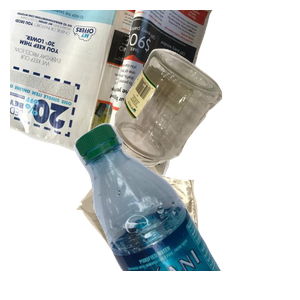glass: (110, 46, 300, 205)
paper: (10, 10, 215, 186)
plastic: (71, 120, 300, 300)
trash: (74, 148, 273, 300)
